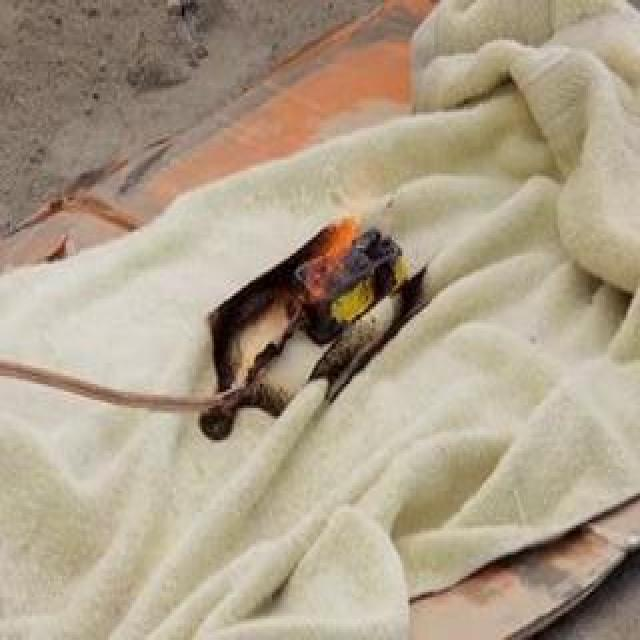Fire: (237, 236, 313, 383)
